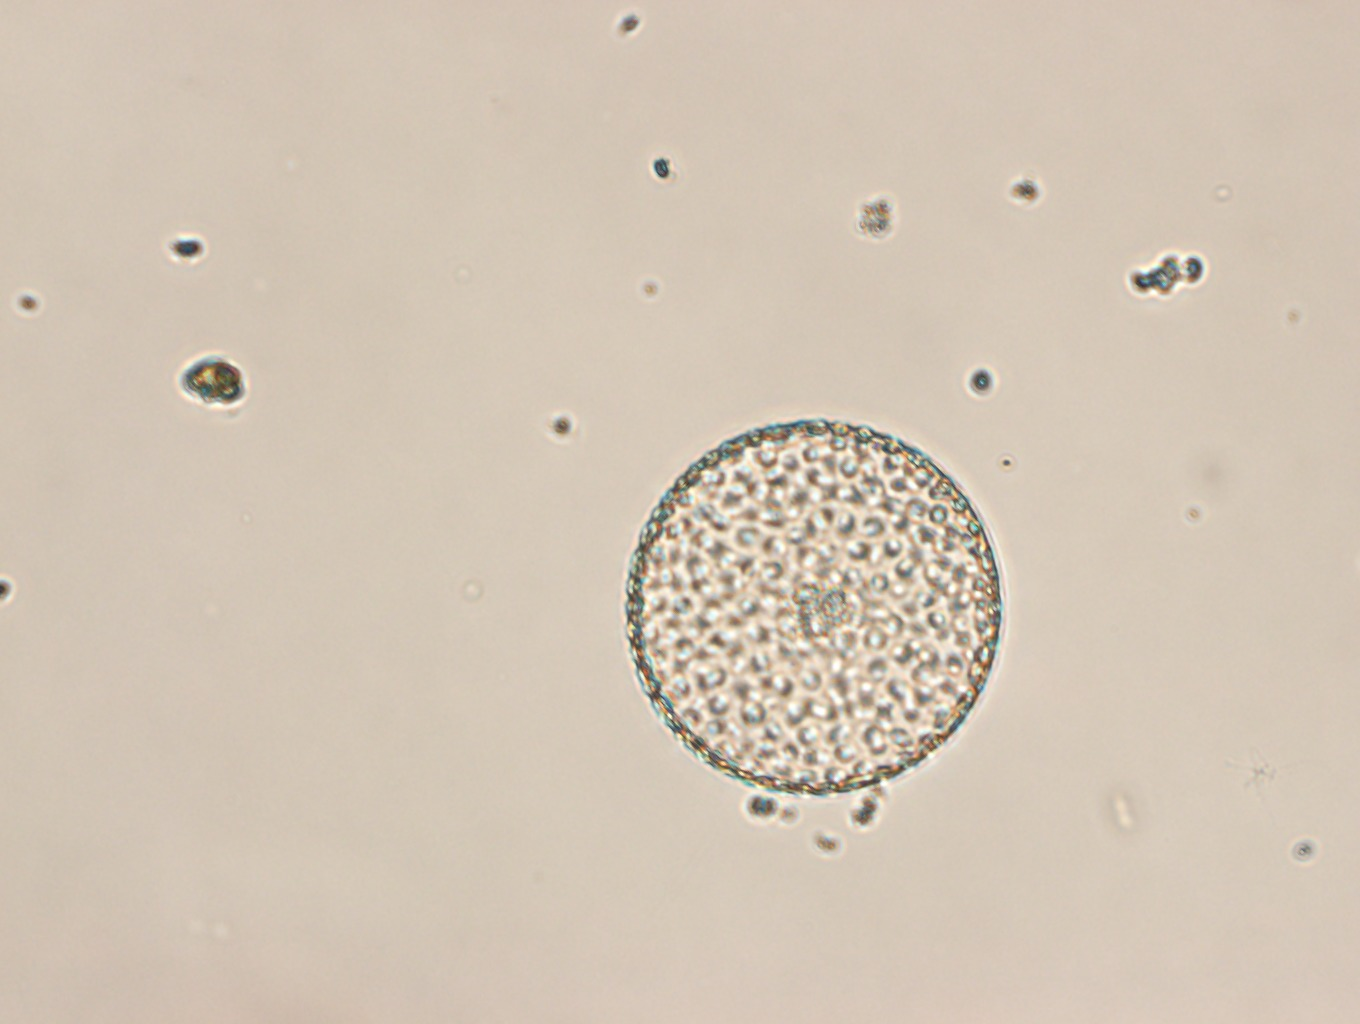coscinodiscus: (622, 416, 1002, 797)
